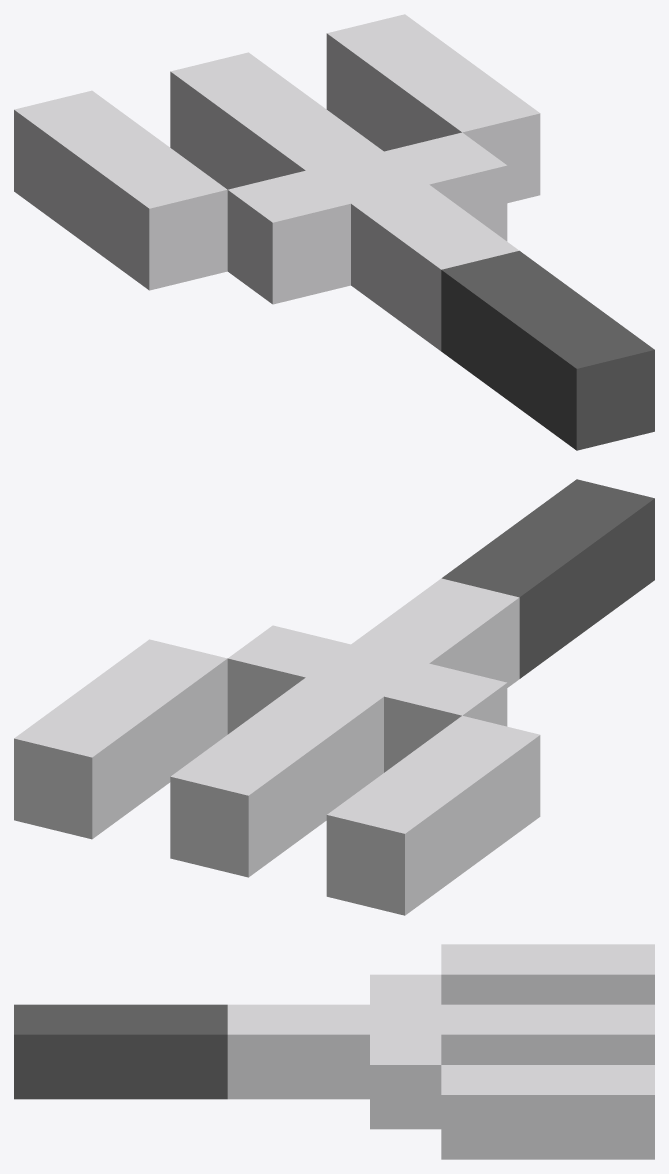
Rendered from Medieval Assets-236-Decoration - Table - Fork.obj.
3 views of the same model, one above another, from view 1: azimuth 30°, elevation 25°; view 2: azimuth 150°, elevation 25°; view 3: azimuth 270°, elevation 25° (orthographic). The views are drawn at different scales.
Visible parts, largest first — view 1: Decoration - Table - Fork; view 2: Decoration - Table - Fork; view 3: Decoration - Table - Fork.
Boxes of the visible parts, box(x1,y1,x2,y2) form: Decoration - Table - Fork: box(14, 14, 654, 450); Decoration - Table - Fork: box(14, 479, 654, 915); Decoration - Table - Fork: box(14, 944, 654, 1159).
Size of the model in its own units: 0.5 by 0.1 by 0.9.
Materials: 1 (1 with a texture image).
